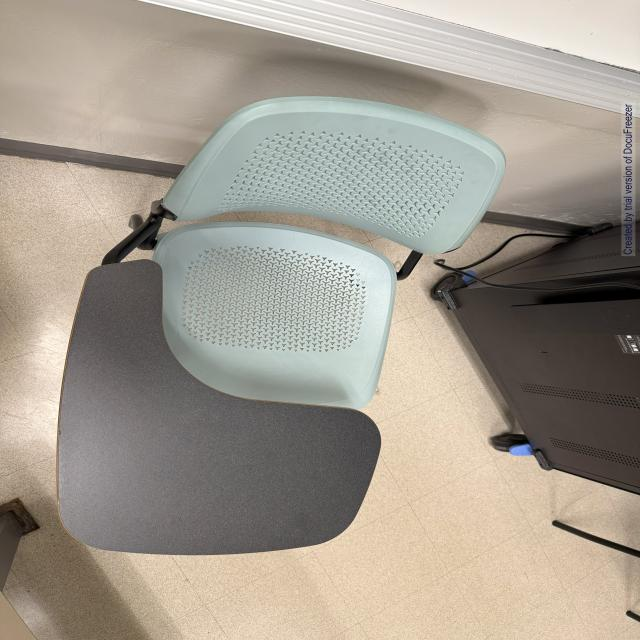chair: (88, 80, 517, 459)
